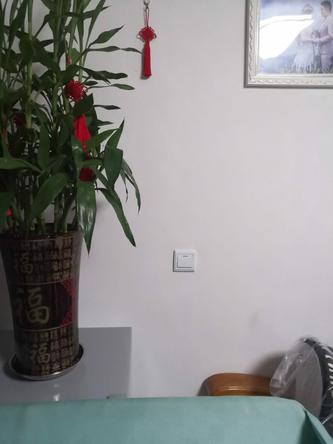switch: (173, 253, 201, 271)
